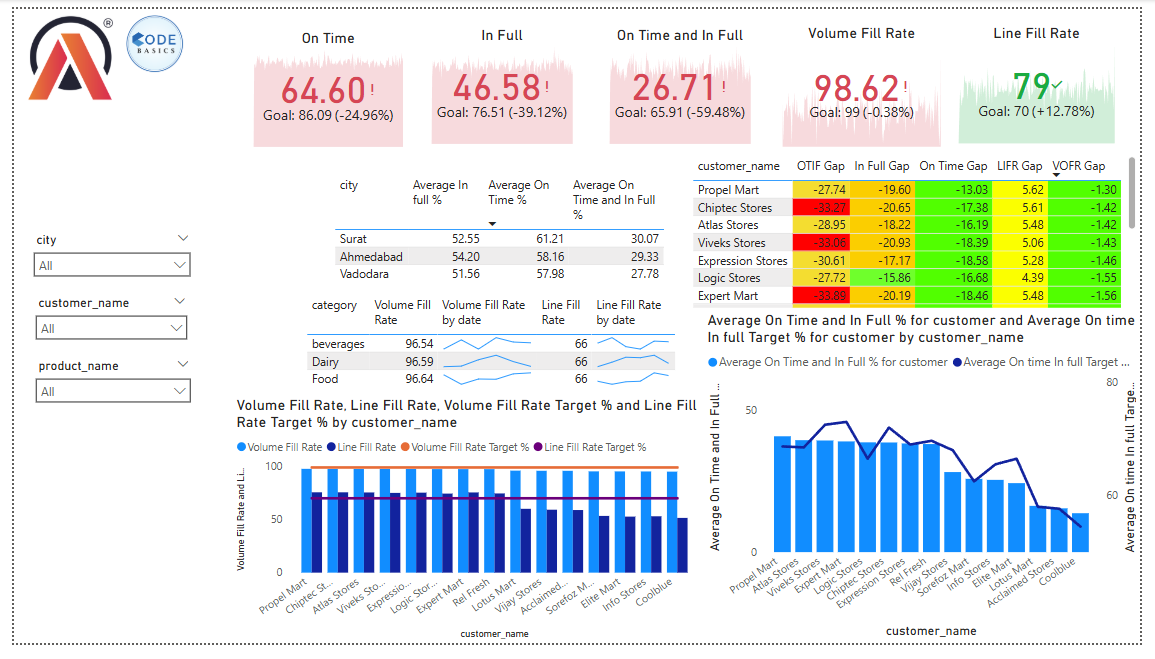

This screenshot's page, from the dashboard's own definition file:
{"tool":"powerbi","page":{"name":"Overview","canvas":[1280,720],"ordinal":0},"visuals":[{"type":"image","box":[9.9,0,110.4,110.4],"z":0},{"type":"image","box":[120.3,0,79,79],"z":1000},{"type":"kpi","title":"On Time and In Full ","fields":{"Indicator":["fact_orders_aggregate.On Time In Full %"],"Goal":["Avg(dim_targets_orders.otif_target%)"],"TrendLine":["dim_date.date"]},"box":[671.5,18.9,170.6,139.2],"z":2000},{"type":"kpi","title":"In Full ","fields":{"TrendLine":["dim_date.date"],"Goal":["Avg(dim_targets_orders.infull_target%)"],"Indicator":["fact_orders_aggregate.In Full Delivery %"]},"box":[469.5,18.9,170.6,139.2],"z":3000},{"type":"kpi","title":"On Time","fields":{"TrendLine":["dim_date.date"],"Goal":["Avg(dim_targets_orders.ontime_target%)"],"Indicator":["fact_orders_aggregate.On Time Delivery %"]},"box":[267.4,23,180.3,139.2],"z":4000},{"type":"tableEx","fields":{"Values":["dim_customers.city","fact_orders_aggregate.Average In full %","fact_orders_aggregate.Average On Time %","fact_orders_aggregate.Average On Time and In Full %"]},"box":[359.4,183.9,388.4,136.7],"z":5000},{"type":"tableEx","fields":{"Values":["dim_customers.customer_name","fact_orders_aggregate.OTIF Gap","fact_orders_aggregate.In Full Gap","fact_orders_aggregate.On Time Gap","fact_order_lines.LIFR Gap","fact_order_lines.VOFR Gap"]},"box":[766,162.2,514.3,181.5],"z":6000},{"type":"kpi","title":"Volume Fill Rate","fields":{"TrendLine":["fact_order_lines.actual_delivery_date"],"Goal":["dim_targets_orders.Volume Fill Rate Target %"],"Indicator":["fact_order_lines.Volume Fill Rate"]},"box":[868.1,17.1,190.3,144.5],"z":7000},{"type":"kpi","title":"Line Fill Rate ","fields":{"Indicator":["fact_order_lines.Line Fill Rate"],"Goal":["dim_targets_orders.Line Fill Rate Target %"],"TrendLine":["fact_order_lines.actual_delivery_date"]},"box":[1068.3,17.1,187.6,140.9],"z":8000},{"type":"lineClusteredColumnComboChart","fields":{"Category":["dim_customers.customer_name"],"Y2":["dim_targets_orders.Average On time In full Target % for customer"],"Y":["fact_orders_aggregate.Average On Time and In Full % for customer"]},"box":[782.9,343.7,497.3,376.3],"z":9000},{"type":"tableEx","fields":{"Values":["dim_products.category","fact_order_lines.Volume Fill Rate","SparklineData(fact_order_lines.Volume Fill Rate_[dim_date.date])","fact_order_lines.Line Fill Rate","SparklineData(fact_order_lines.Line Fill Rate_[dim_date.date])"]},"box":[326.7,320.7,429.6,118.6],"z":10000},{"type":"slicer","fields":{"Values":["dim_products.product_name"]},"box":[14.5,392.1,196,78.7],"z":11000},{"type":"lineClusteredColumnComboChart","fields":{"Category":["dim_customers.customer_name"],"Y":["fact_order_lines.Volume Fill Rate","fact_order_lines.Line Fill Rate"],"Y2":["dim_targets_orders.Volume Fill Rate Target %","dim_targets_orders.Line Fill Rate Target %"]},"box":[248.1,439.3,534.9,280.7],"z":13000},{"type":"slicer","fields":{"Values":["dim_customers.city"]},"box":[12.1,249.3,198.5,73.8],"z":13001},{"type":"slicer","fields":{"Values":["dim_customers.customer_name"]},"box":[14.5,320.7,192.4,66.6],"z":13002}]}

Visuals, with their boxes in screenshot pixels (x1, y1, x2, y2), scaled from the page's 1280x720 canvas onto the 1155x659 screenshot:
image: {"left": 9, "top": 0, "right": 109, "bottom": 101}
image: {"left": 109, "top": 0, "right": 180, "bottom": 72}
"On Time and In Full " kpi: {"left": 606, "top": 17, "right": 760, "bottom": 145}
"In Full " kpi: {"left": 424, "top": 17, "right": 578, "bottom": 145}
"On Time" kpi: {"left": 241, "top": 21, "right": 404, "bottom": 148}
tableEx - dim_customers.city x fact_orders_aggregate.Average In full %: {"left": 324, "top": 168, "right": 675, "bottom": 293}
tableEx - dim_customers.customer_name x fact_orders_aggregate.OTIF Gap: {"left": 691, "top": 148, "right": 1154, "bottom": 315}
"Volume Fill Rate" kpi: {"left": 783, "top": 16, "right": 955, "bottom": 148}
"Line Fill Rate " kpi: {"left": 964, "top": 16, "right": 1133, "bottom": 145}
lineClusteredColumnComboChart - dim_customers.customer_name x dim_targets_orders.Average On time In full Target % for customer: {"left": 706, "top": 315, "right": 1154, "bottom": 658}
tableEx - dim_products.category x fact_order_lines.Volume Fill Rate: {"left": 295, "top": 294, "right": 682, "bottom": 402}
slicer - dim_products.product_name: {"left": 13, "top": 359, "right": 190, "bottom": 431}
lineClusteredColumnComboChart - dim_customers.customer_name x fact_order_lines.Volume Fill Rate: {"left": 224, "top": 402, "right": 707, "bottom": 658}
slicer - dim_customers.city: {"left": 11, "top": 228, "right": 190, "bottom": 296}
slicer - dim_customers.customer_name: {"left": 13, "top": 294, "right": 187, "bottom": 354}
